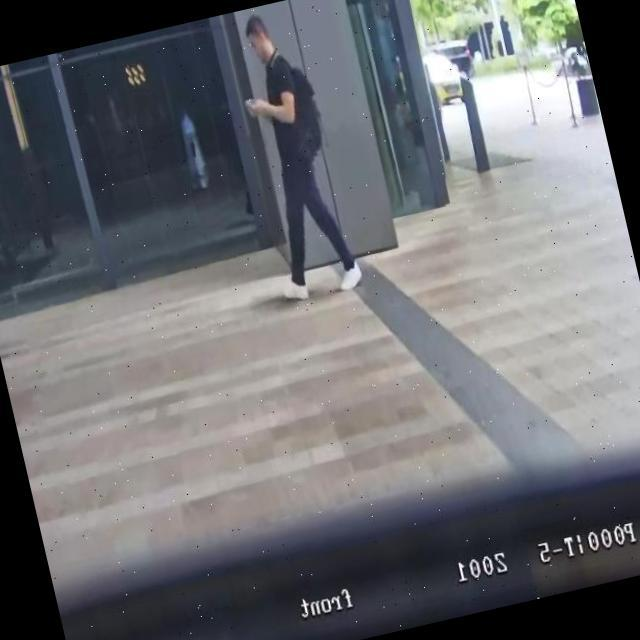person: (220, 3, 365, 306)
